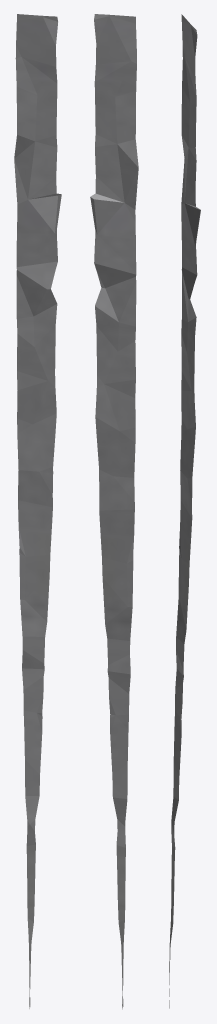
The picture shows the model from 3 angles, left to right: view 1: azimuth 30°, elevation 25°; view 2: azimuth 210°, elevation 25°; view 3: azimuth 330°, elevation 25°; orthographic projection.
Size of the model in its own units: 0.0281 by 0.8255 by 0.0236.
1 material, 1 textured.
